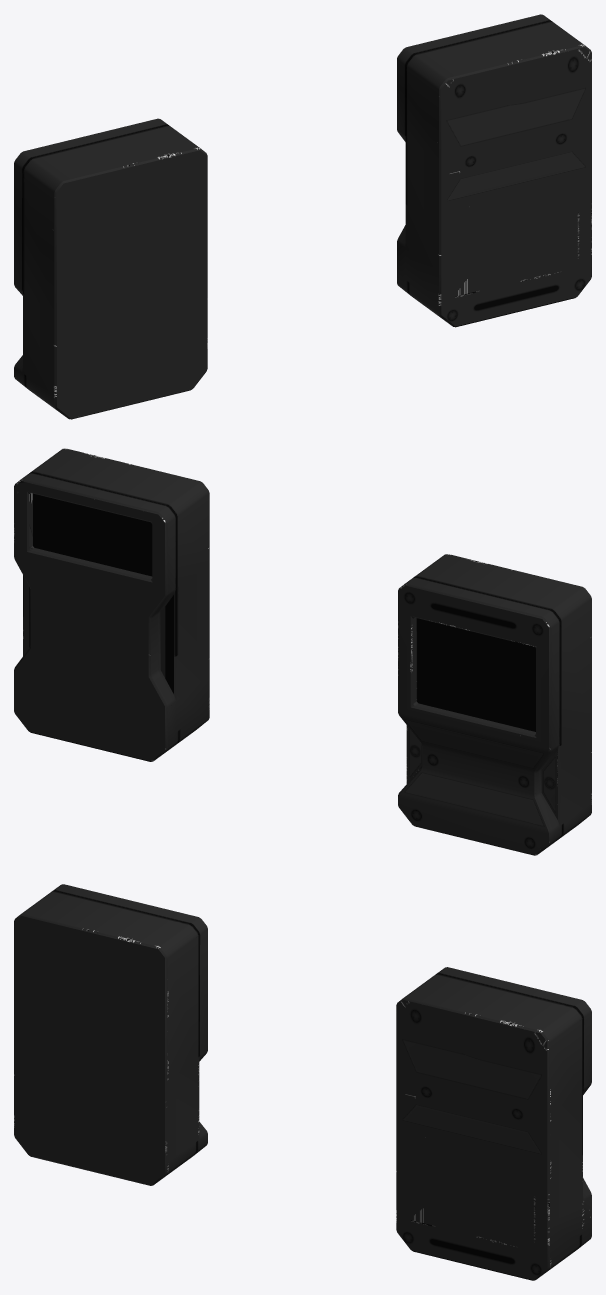
File: DoorPanels.fbx
3 renders of one model, top to bottom at view 1: azimuth 30°, elevation 25°; view 2: azimuth 150°, elevation 25°; view 3: azimuth 330°, elevation 25°, orthographic.
Visible parts, largest first — view 1: KeycardPanel, TouchScreenPanel; view 2: KeycardPanel, TouchScreenPanel; view 3: KeycardPanel, TouchScreenPanel.
Part boxes in pixels (x1,y1,x2,y2): KeycardPanel: (397,14,591,327); TouchScreenPanel: (14,118,207,419); KeycardPanel: (14,448,209,761); TouchScreenPanel: (398,554,591,855); KeycardPanel: (396,967,591,1280); TouchScreenPanel: (14,884,207,1185).
Size of the model in its own units: 70 by 31.34 by 9.91.
